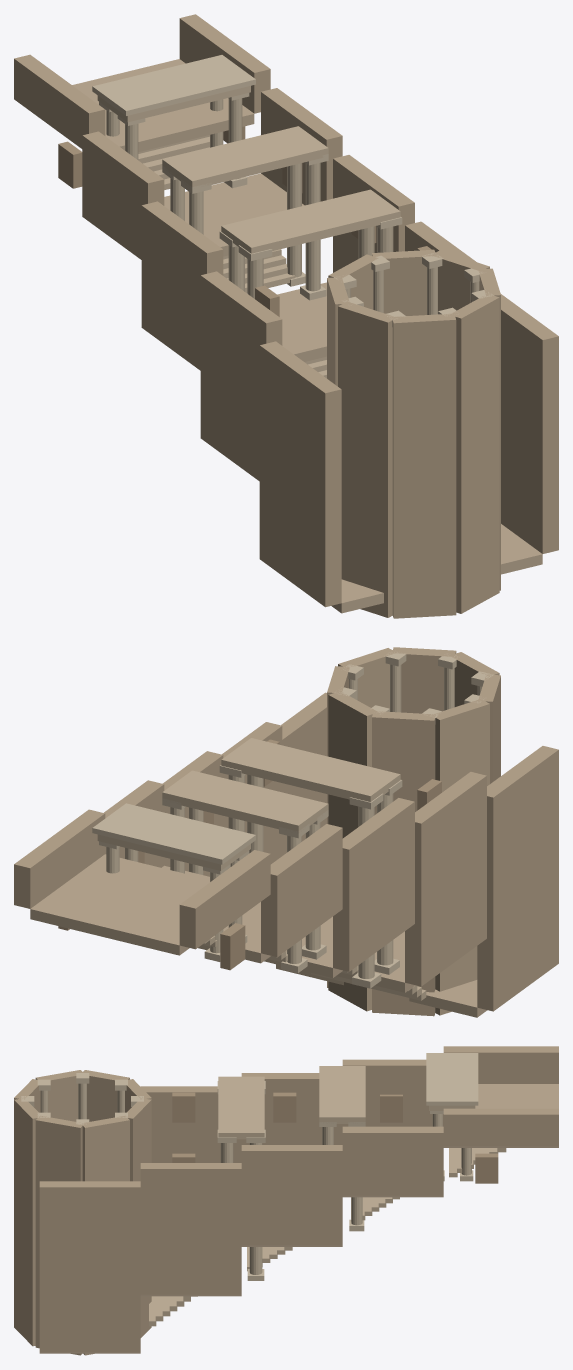
File: adalaj_photogrammetry_reconstructed.glb
3 views of the same model, one above another, from view 1: azimuth 30°, elevation 25°; view 2: azimuth 150°, elevation 25°; view 3: azimuth 270°, elevation 25° (orthographic). The views are drawn at different scales.
Visible parts, largest first — view 1: geometry_0; view 2: geometry_0; view 3: geometry_0.
Boxes of the visible parts, x1,y1,x2,y2 form: geometry_0: (14,14,558,618); geometry_0: (14,647,558,1017); geometry_0: (14,1046,558,1355).
Bounding box in the file's own units: 7.2 × 9.53 × 18.88.
